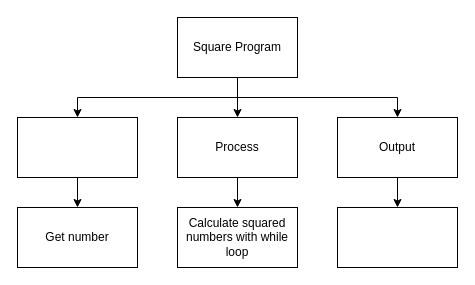
This 475x285 diagram has some shape labels left out. The centre of each missing label's shape, as x and y in pixels:
Input: the point at 77,147
Show answers: the point at 397,237
